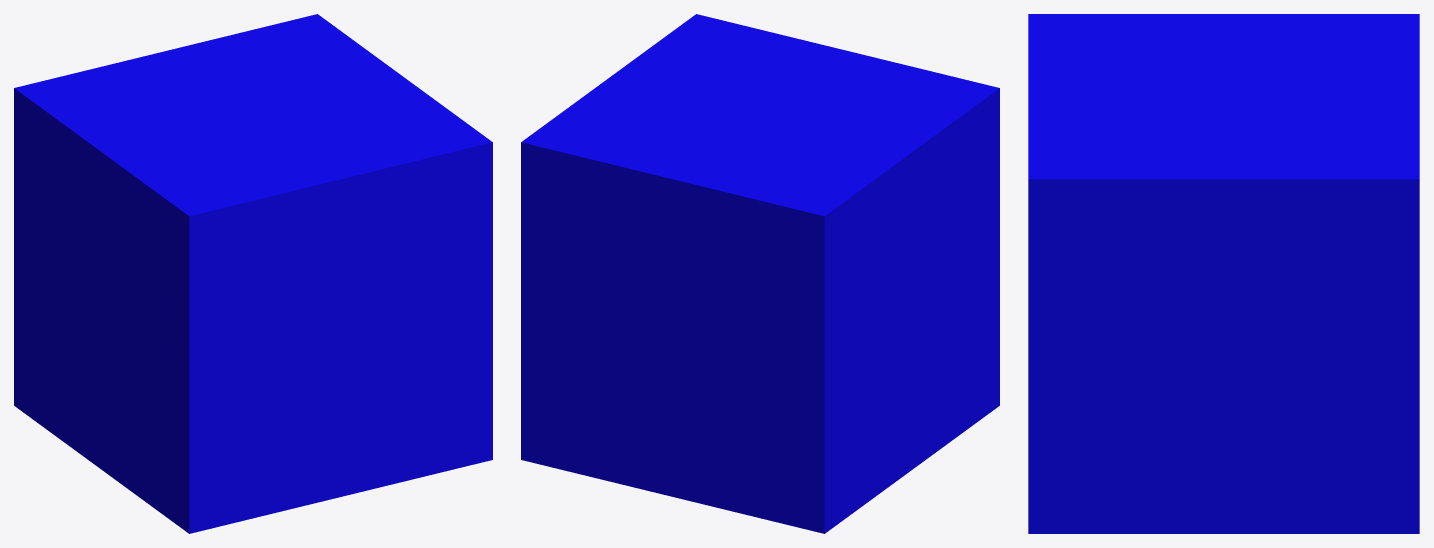
File: Sinosteel3d.fbx
3 renders of one model, left to right at view 1: azimuth 30°, elevation 25°; view 2: azimuth 150°, elevation 25°; view 3: azimuth 270°, elevation 25°, orthographic. The views are drawn at different scales.
Parts seen in each view (by area): view 1: Cube; view 2: Cube; view 3: Cube.
Boxes of the visible parts, box(x1,y1,x2,y2) form: Cube: box(14, 14, 492, 533); Cube: box(521, 14, 999, 533); Cube: box(1028, 14, 1419, 533).
Size of the model in its own units: 200 by 200 by 200.
